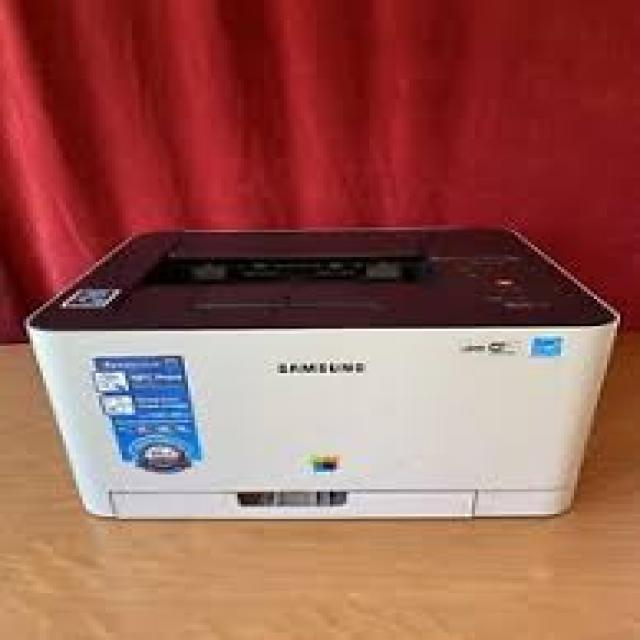printer: (27, 227, 622, 519)
